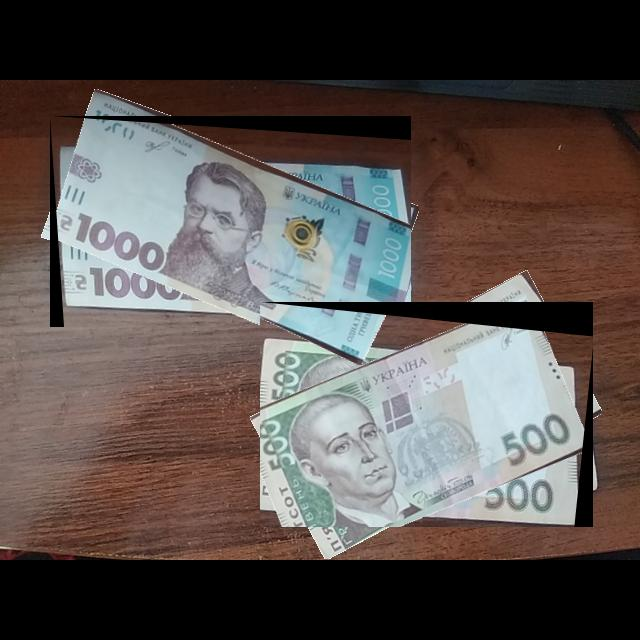1000uah: (50, 116, 412, 328)
500uah: (260, 302, 594, 528)
